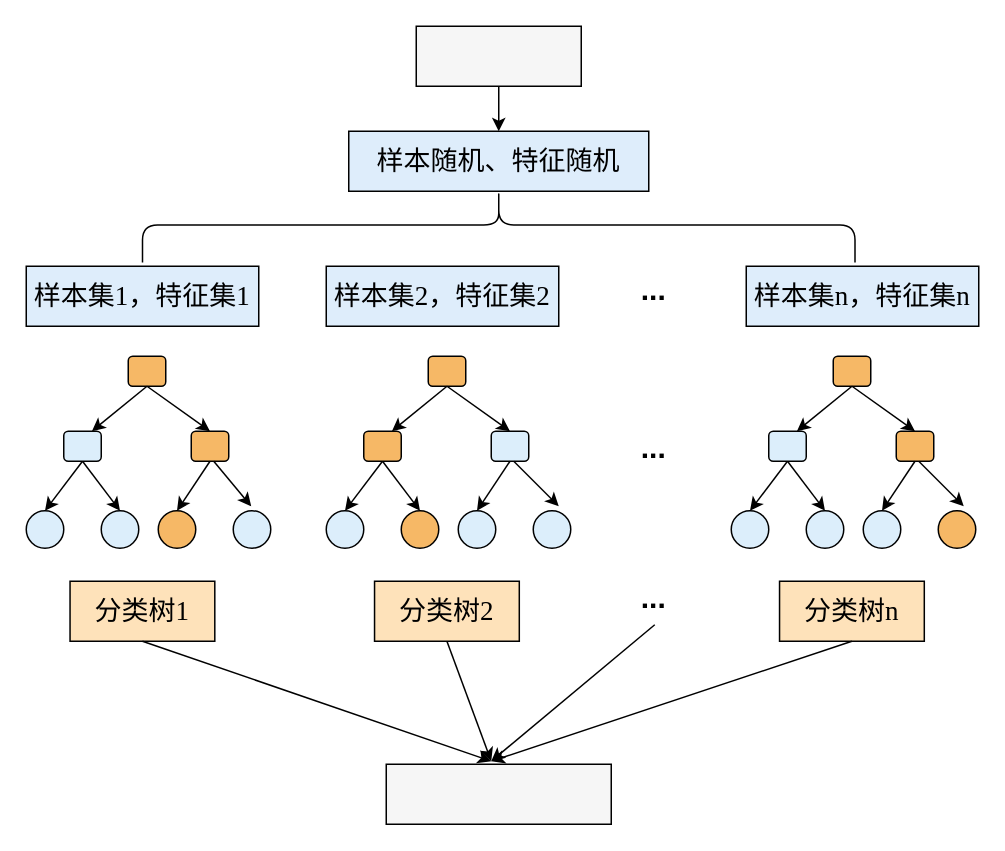
The diagram is 1005 pixels wide and 851 high, and some of its shapes have lost their labels. Here are the shapes that lost their labels. From the top down, the centre of each, then its label:
the point at 498,55: 训练样本
the point at 498,793: 投票决定最终结果
